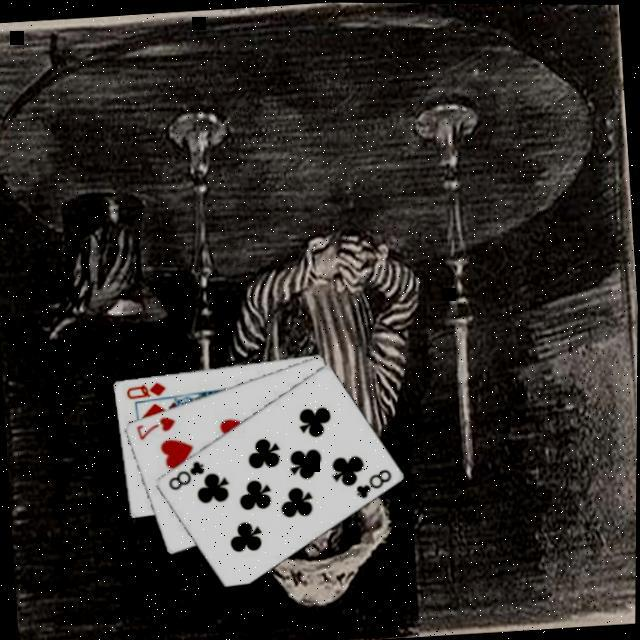7H: (130, 413, 178, 443)
8C: (349, 464, 394, 502), (162, 456, 206, 494)
QD: (121, 378, 167, 404)
